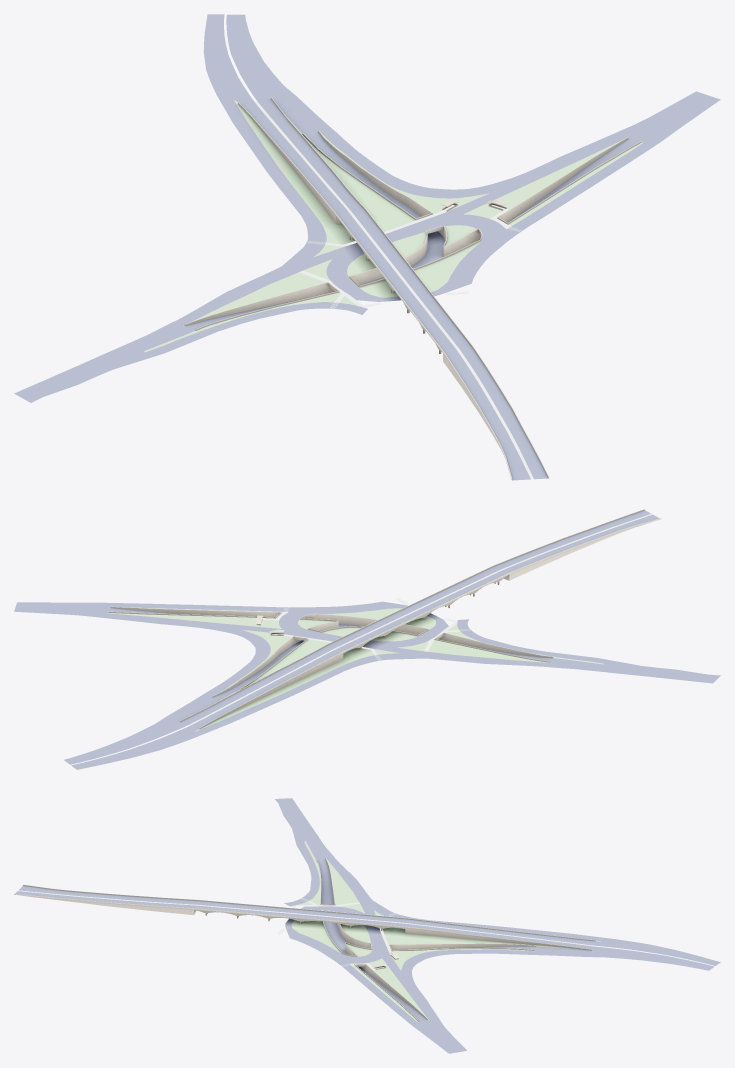
The model's file is VOAD-halilulina-colored.glb.
The picture shows the model from 3 angles, top to bottom: view 1: azimuth 30°, elevation 25°; view 2: azimuth 150°, elevation 25°; view 3: azimuth 270°, elevation 25°; orthographic projection. The views are drawn at different scales.
Visible parts, largest first — view 1: group_3, group_4.003, group_2, group_1, group_6.002; view 2: group_3, group_4.003, group_2, group_1, group_6.002; view 3: group_3, group_4.003, group_1, group_2, group_6.002.
Boxes of the visible parts, x1,y1,x2,y2 form: group_3: [14, 14, 720, 480]; group_4.003: [143, 100, 642, 352]; group_2: [184, 130, 641, 330]; group_1: [238, 97, 549, 480]; group_6.002: [254, 101, 533, 479]; group_3: [14, 510, 720, 769]; group_4.003: [108, 607, 604, 731]; group_2: [108, 606, 553, 699]; group_1: [179, 509, 661, 728]; group_6.002: [188, 514, 652, 725]; group_3: [15, 798, 720, 1053]; group_4.003: [291, 841, 600, 1021]; group_1: [14, 884, 595, 950]; group_2: [315, 858, 536, 1021]; group_6.002: [18, 890, 593, 970].
Bounding box in the file's own units: 616 × 15 × 720.
5 materials, 3 textured.
